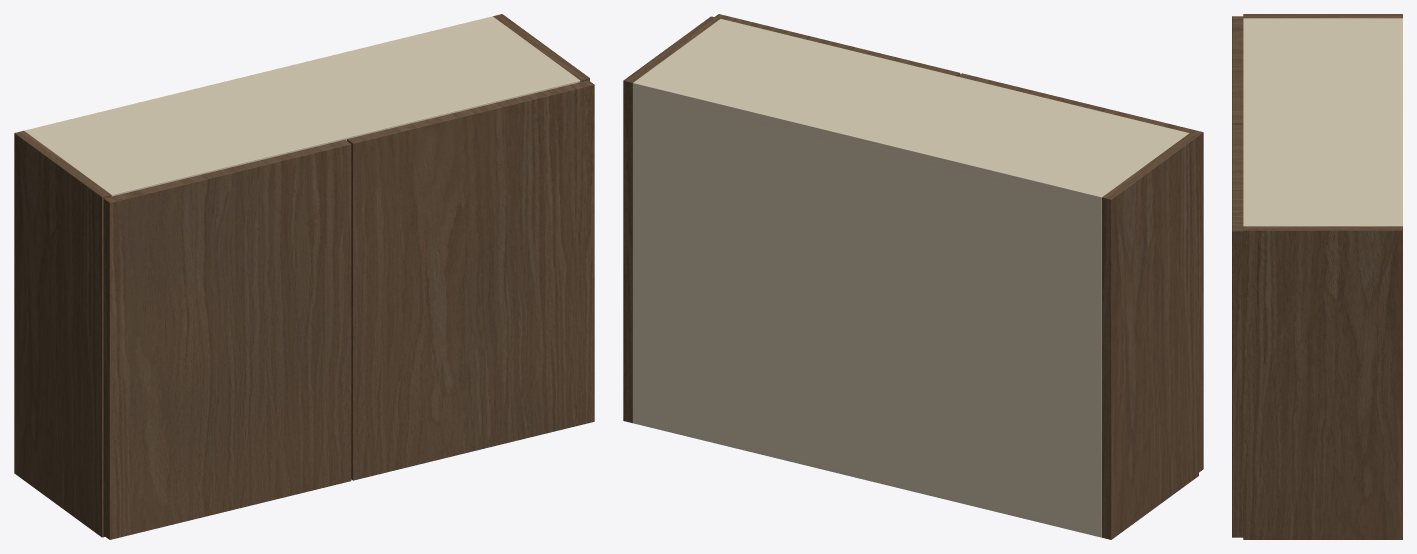
File: oppein-ply-mso-w3624.glb
3 views of the same model, side by side, from view 1: azimuth 30°, elevation 25°; view 2: azimuth 150°, elevation 25°; view 3: azimuth 270°, elevation 25° (orthographic). The views are drawn at different scales.
Parts seen in each view (by area): view 1: Door, Door.001, Cabinet top, Cabinet side, Cabinet back, Cabinet side.001; view 2: Cabinet back, Cabinet top, Cabinet side, Cabinet side.001, Cabinet bottom, Door, Door.001; view 3: Cabinet side.001, Cabinet top, Door.001, Cabinet back, Door, Cabinet side.
Part boxes in pixels (x1=…): Door: x1=103, y1=139, x2=351, y2=539; Door.001: x1=347, y1=80, x2=594, y2=480; Cabinet top: x1=25, y1=16, x2=580, y2=196; Cabinet side: x1=14, y1=130, x2=111, y2=537; Cabinet back: x1=24, y1=16, x2=495, y2=132; Cabinet side.001: x1=493, y1=14, x2=589, y2=81; Cabinet back: x1=633, y1=80, x2=1104, y2=537; Cabinet top: x1=633, y1=19, x2=1189, y2=206; Cabinet side: x1=1102, y1=133, x2=1198, y2=539; Cabinet side.001: x1=623, y1=16, x2=719, y2=423; Cabinet bottom: x1=633, y1=415, x2=1101, y2=537; Door: x1=958, y1=73, x2=1203, y2=472; Door.001: x1=714, y1=14, x2=960, y2=76; Cabinet side.001: x1=1243, y1=226, x2=1402, y2=539; Cabinet top: x1=1243, y1=18, x2=1402, y2=226; Door.001: x1=1232, y1=124, x2=1243, y2=537; Cabinet back: x1=1396, y1=18, x2=1402, y2=226; Door: x1=1232, y1=16, x2=1243, y2=124; Cabinet side: x1=1243, y1=14, x2=1402, y2=18.
Size of the model in its own units: 0.9144 by 0.6096 by 0.3048.
Materials: 2 (1 with a texture image).
